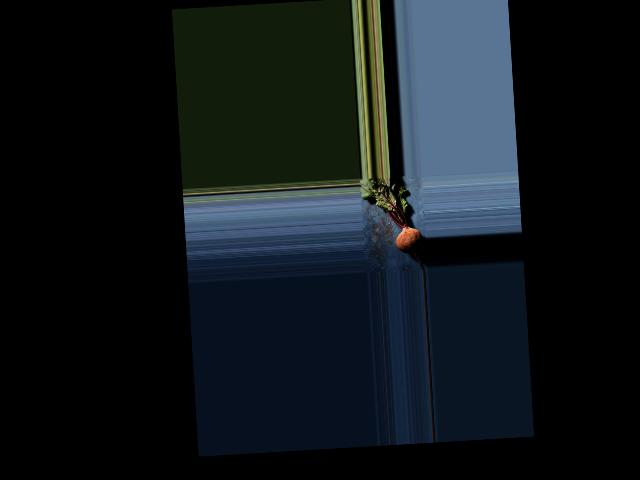beet: (359, 174, 424, 273)
